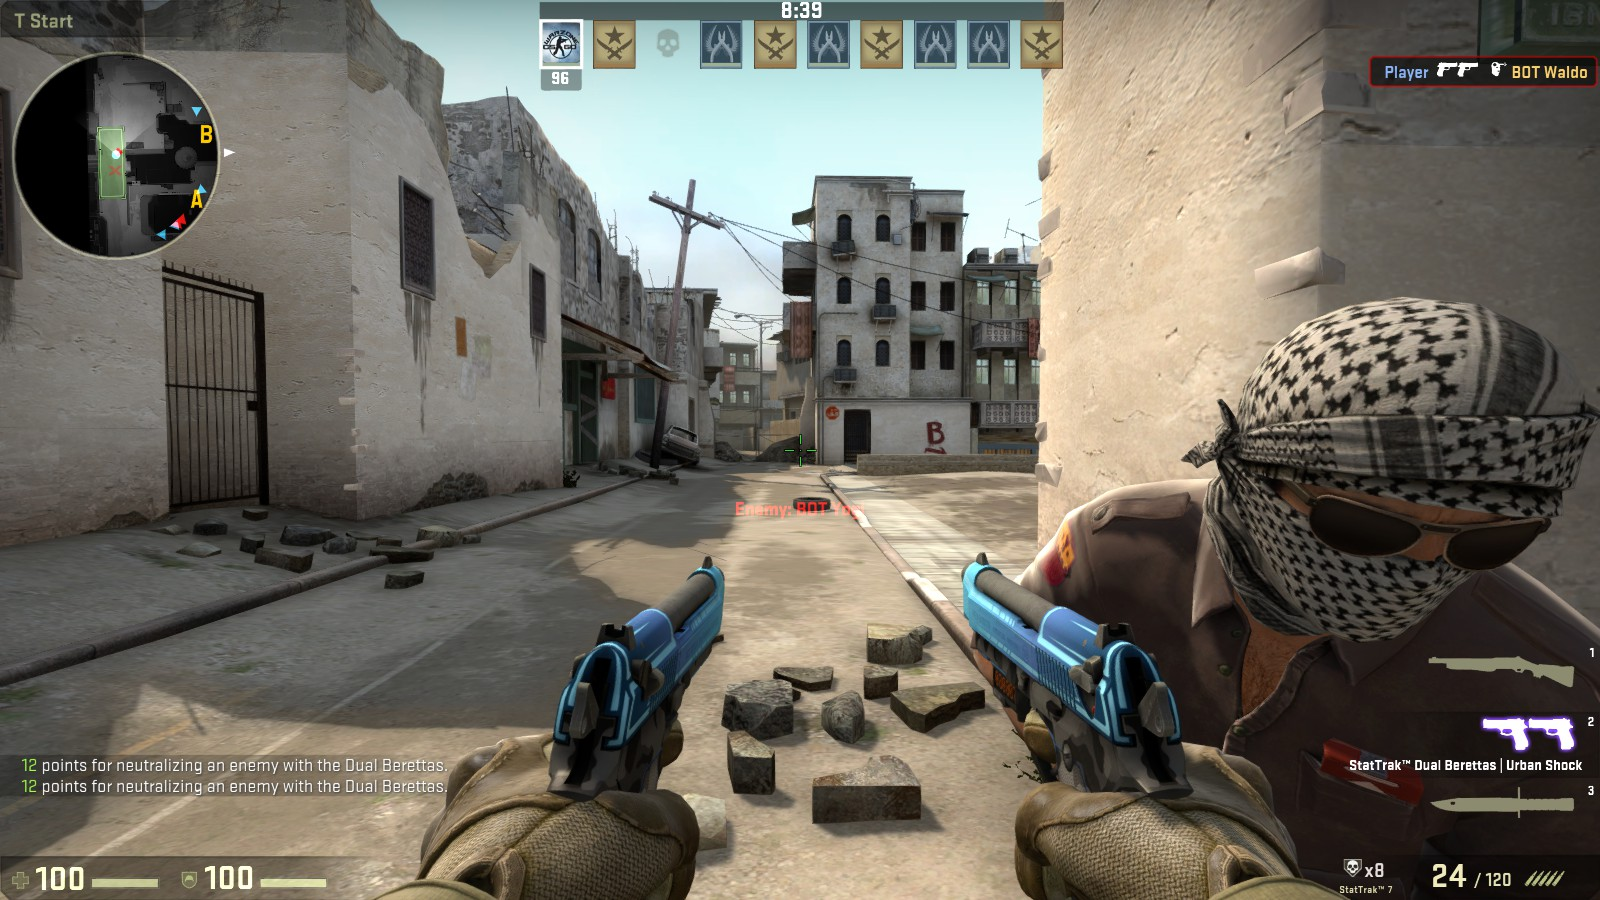t: (1042, 289, 1592, 900)
th: (1188, 287, 1588, 644)
